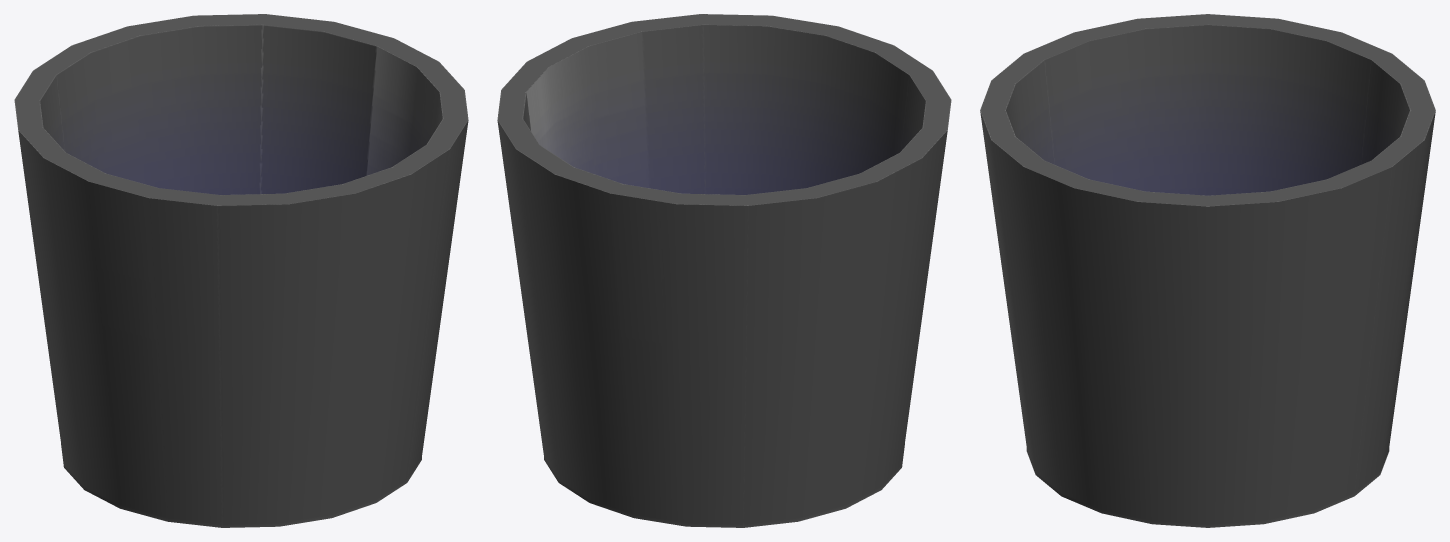
The model's file is bucket.fbx.
3 renders of one model, left to right at view 1: azimuth 30°, elevation 25°; view 2: azimuth 150°, elevation 25°; view 3: azimuth 270°, elevation 25°, orthographic.
Parts seen in each view (by area): view 1: pCylinder1; view 2: pCylinder1; view 3: pCylinder1.
Boxes of the visible parts, x1,y1,x2,y2 form: pCylinder1: (14,14,468,527); pCylinder1: (497,14,951,527); pCylinder1: (980,14,1435,527).
Size of the model in its own units: 5.67 by 4.68 by 5.67.
Materials: 1 (1 with a texture image).
